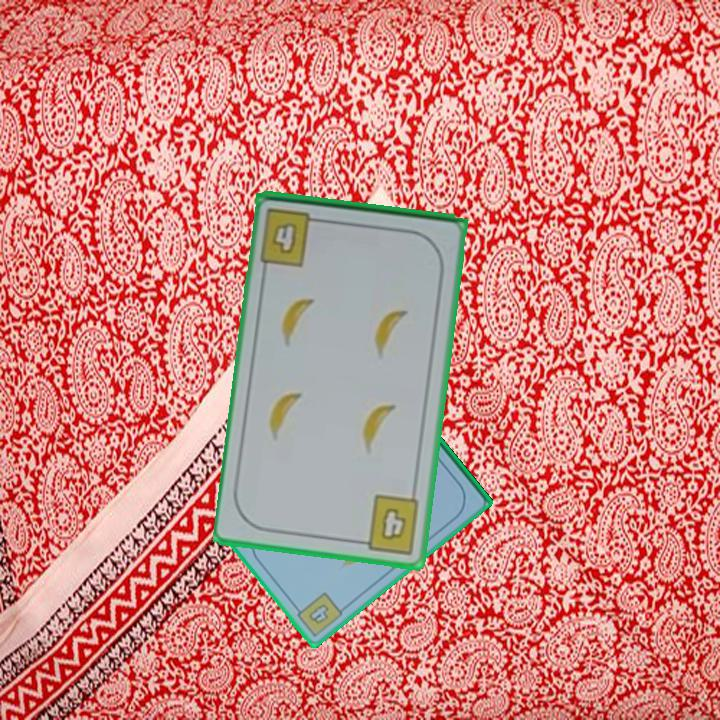4b: (353, 491, 423, 557), (256, 205, 327, 269), (291, 589, 346, 640)
